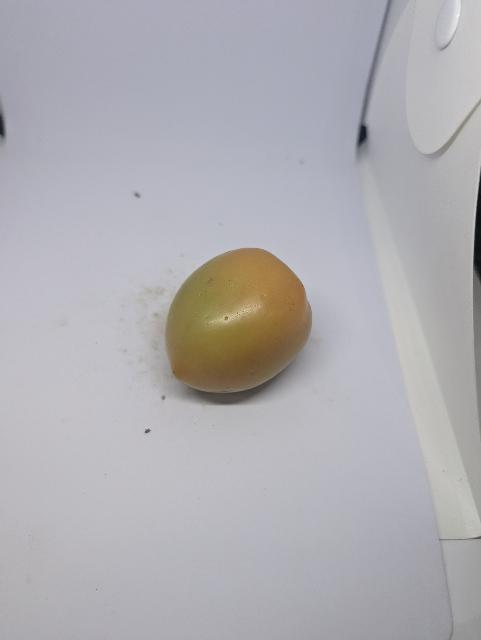breaker: (166, 248, 312, 393)
